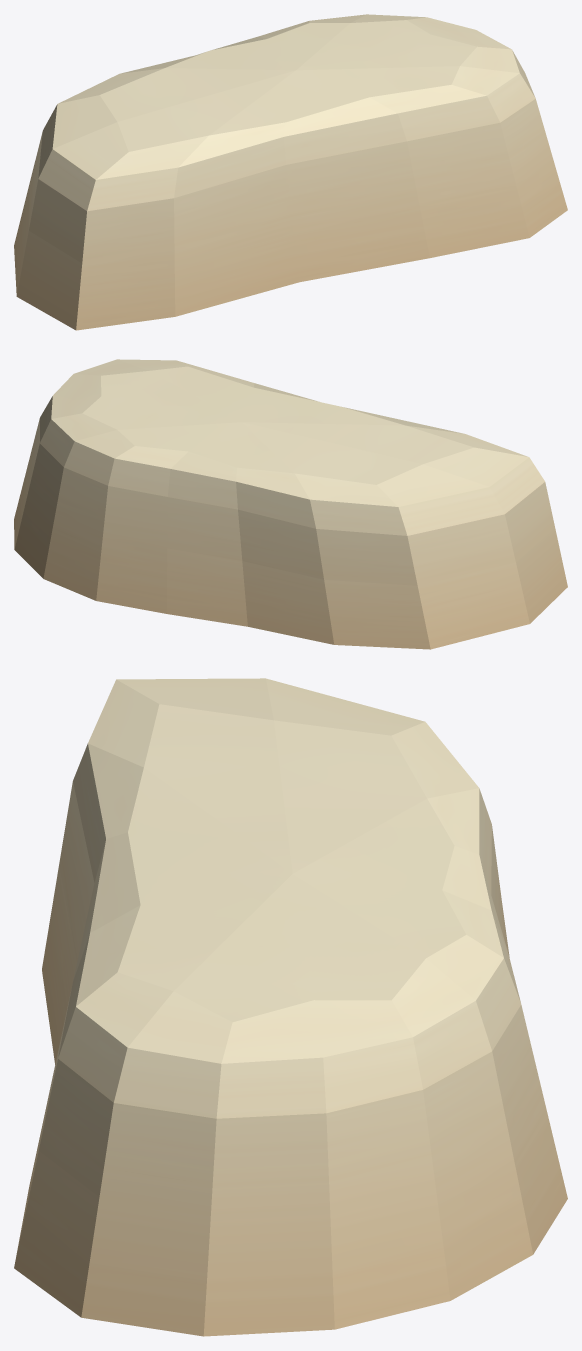
Rendered from Island_02.fbx.
3 renders of one model, top to bottom at view 1: azimuth 30°, elevation 25°; view 2: azimuth 150°, elevation 25°; view 3: azimuth 270°, elevation 25°, orthographic. The views are drawn at different scales.
Parts seen in each view (by area): view 1: Island_02; view 2: Island_02; view 3: Island_02.
Boxes of the visible parts, x1,y1,x2,y2 form: Island_02: [14, 14, 567, 330]; Island_02: [14, 359, 567, 649]; Island_02: [14, 678, 567, 1336].
Bounding box in the file's own units: 1652 × 445 × 856.
